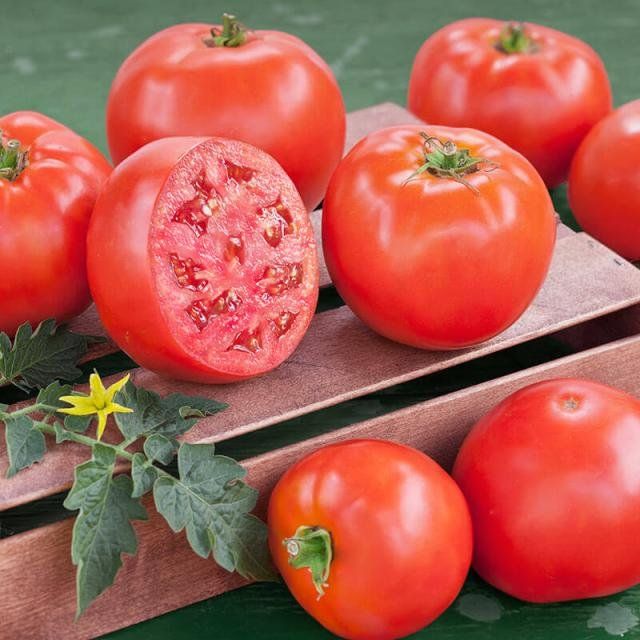tomato: (329, 129, 552, 346), (276, 435, 469, 640)
